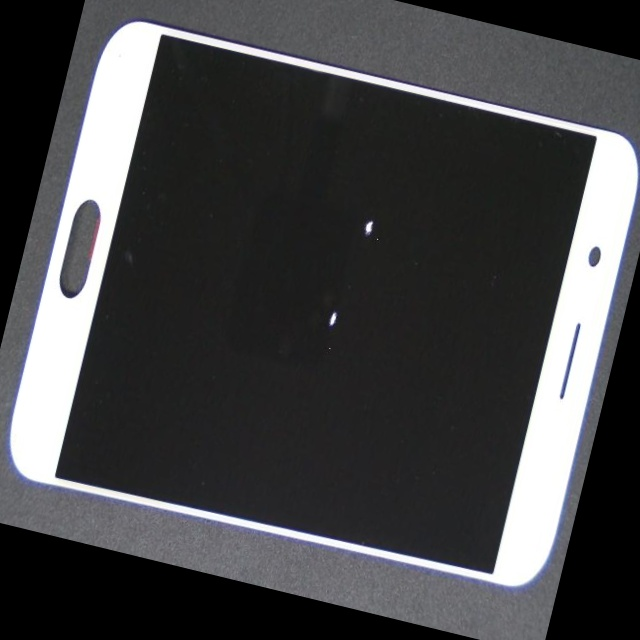stain: (118, 137, 488, 552), (197, 28, 556, 345)
